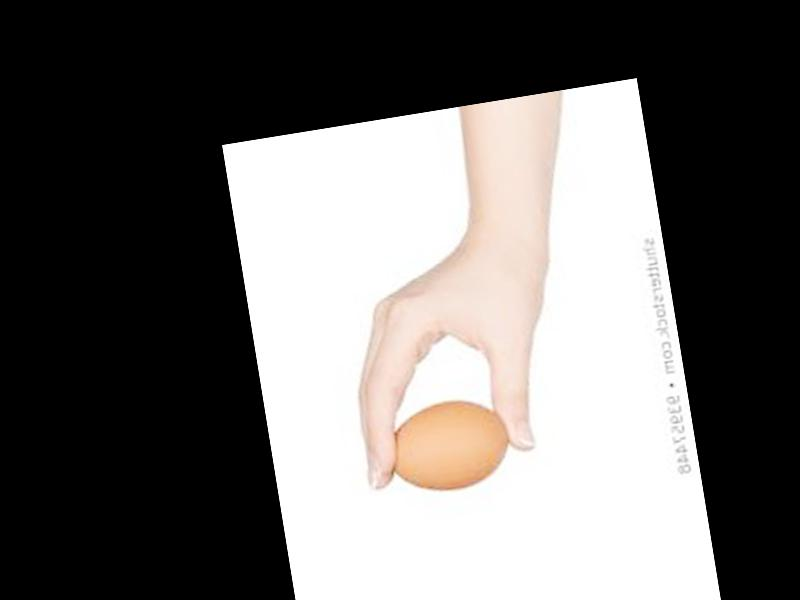Eggs: (377, 394, 516, 499)
